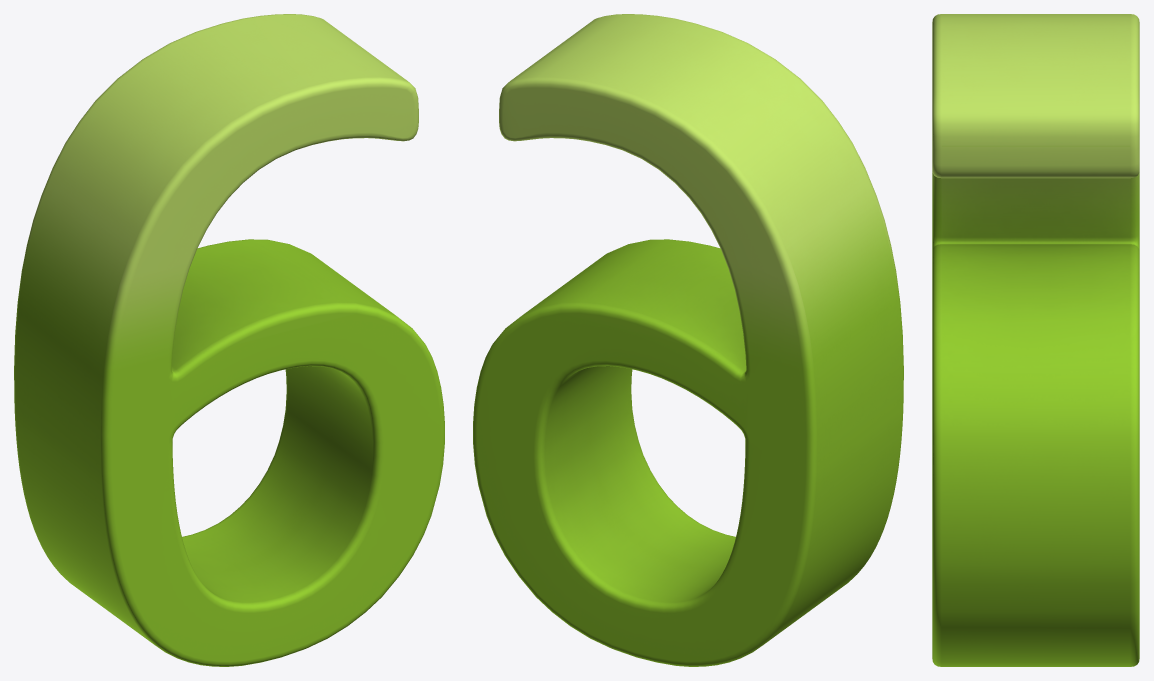
Rendered from six.glb.
3 renders of one model, left to right at view 1: azimuth 30°, elevation 25°; view 2: azimuth 150°, elevation 25°; view 3: azimuth 270°, elevation 25°, orthographic. The views are drawn at different scales.
Visible parts, largest first — view 1: node_id30; view 2: node_id30; view 3: node_id30.
Part boxes in pixels (bbox=[...]): node_id30: bbox=[14, 14, 444, 666]; node_id30: bbox=[473, 14, 903, 666]; node_id30: bbox=[932, 14, 1139, 666].
Size of the model in its own units: 0.3267 by 0.512 by 0.1539.
1 material, 1 textured.
